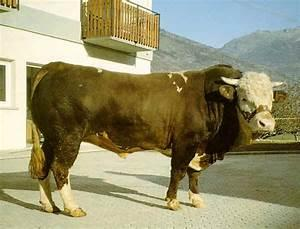cow: (27, 60, 288, 217)
